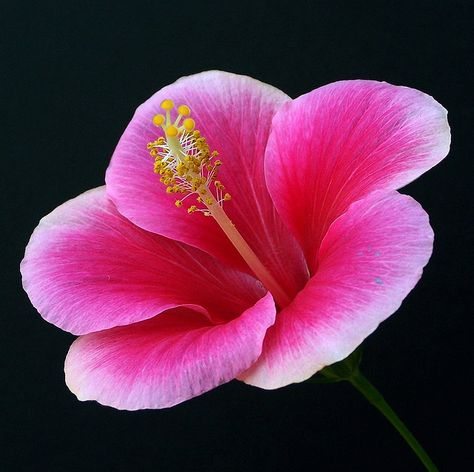Hibiscus: (18, 47, 466, 410)
